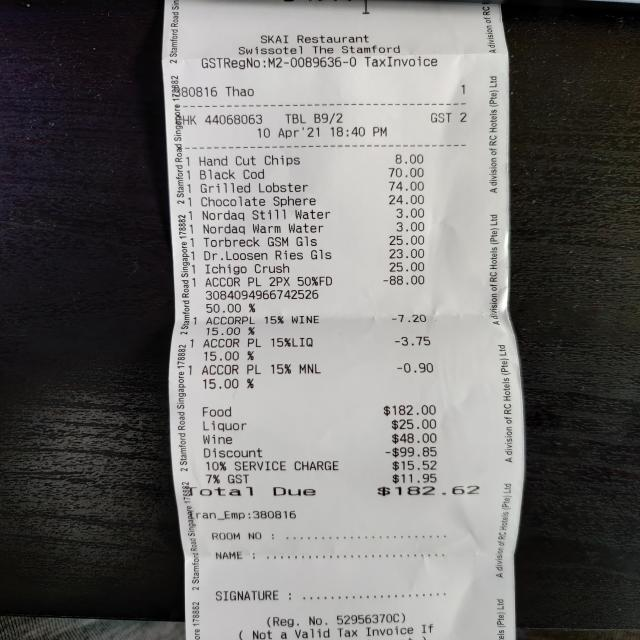bill_region: (180, 146, 493, 507)
